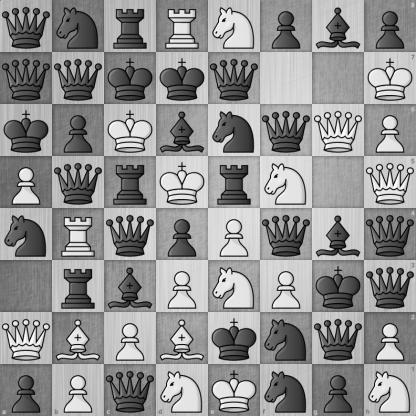B: (53, 313, 104, 364), (157, 313, 208, 364)
K: (364, 52, 416, 104), (209, 364, 260, 416), (105, 105, 156, 156), (157, 157, 208, 208)
N: (156, 364, 209, 416), (364, 364, 416, 416), (209, 1, 260, 52), (209, 261, 260, 312), (261, 157, 312, 208)
P: (52, 364, 104, 416), (364, 104, 416, 156), (364, 312, 416, 364), (1, 157, 52, 208), (105, 313, 156, 364), (157, 261, 208, 312), (209, 209, 260, 260), (261, 261, 312, 312)
Q: (364, 156, 416, 209), (1, 313, 52, 364), (313, 105, 364, 156)
R: (53, 209, 104, 260), (157, 1, 208, 52)
b: (105, 261, 156, 312), (157, 105, 208, 156), (313, 1, 364, 52), (313, 209, 364, 260)
board: (0, 0, 415, 415)
k: (1, 105, 52, 156), (105, 53, 156, 104), (157, 53, 208, 104), (209, 313, 260, 364), (313, 261, 364, 312)
n: (260, 364, 312, 416), (1, 209, 52, 260), (53, 1, 104, 52), (209, 105, 260, 156), (261, 313, 312, 364)
p: (0, 364, 52, 416), (312, 364, 364, 416), (364, 0, 416, 52), (53, 105, 104, 156), (157, 209, 208, 260), (261, 1, 312, 52)
q: (104, 364, 156, 416), (364, 260, 416, 312), (364, 209, 416, 260), (1, 1, 52, 52), (1, 53, 52, 104), (53, 53, 104, 104), (53, 157, 104, 208), (105, 209, 156, 260), (209, 53, 260, 104), (261, 105, 312, 156), (261, 209, 312, 260), (313, 313, 364, 364)
r: (53, 261, 104, 312), (105, 1, 156, 52), (105, 157, 156, 208), (209, 157, 260, 208)
